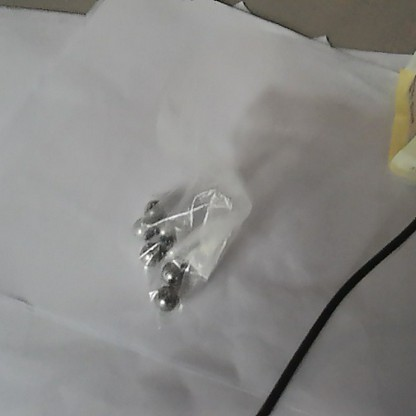ironball: (153, 287, 181, 313), (155, 219, 179, 243), (130, 215, 153, 238), (137, 240, 159, 264), (156, 260, 175, 282), (145, 198, 164, 217), (178, 258, 195, 274)
